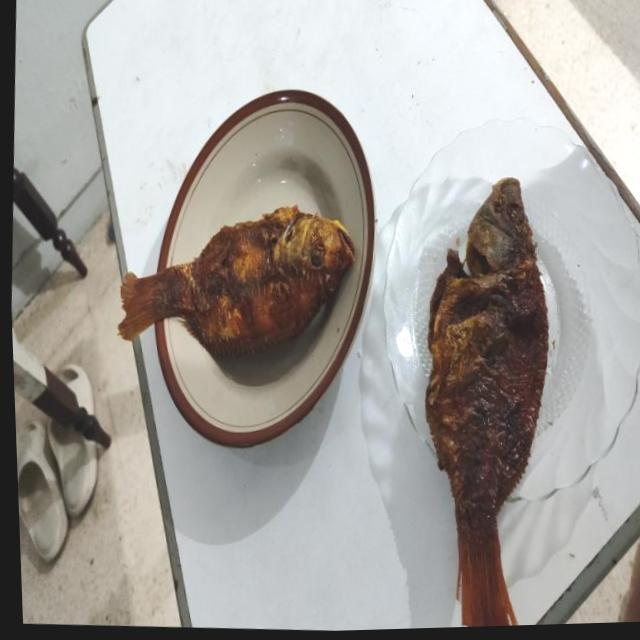ikan_mujair: (426, 178, 548, 627), (118, 206, 354, 355)
